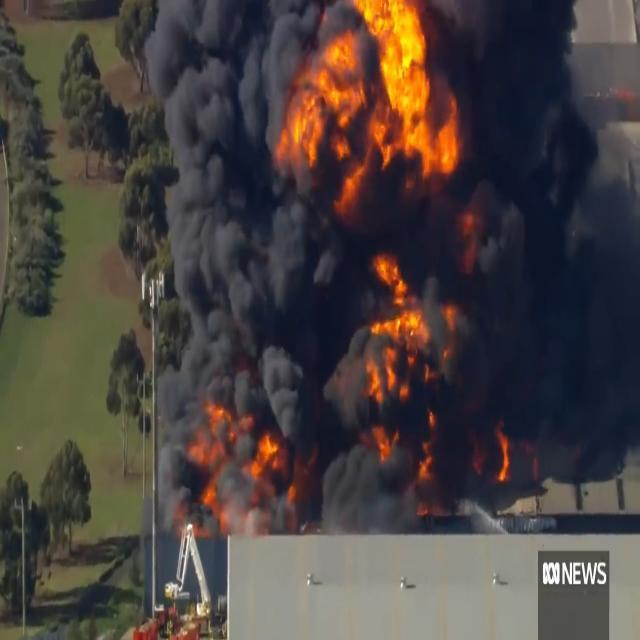fire: (274, 0, 456, 188), (358, 245, 458, 485), (186, 396, 319, 530), (496, 428, 509, 483)
